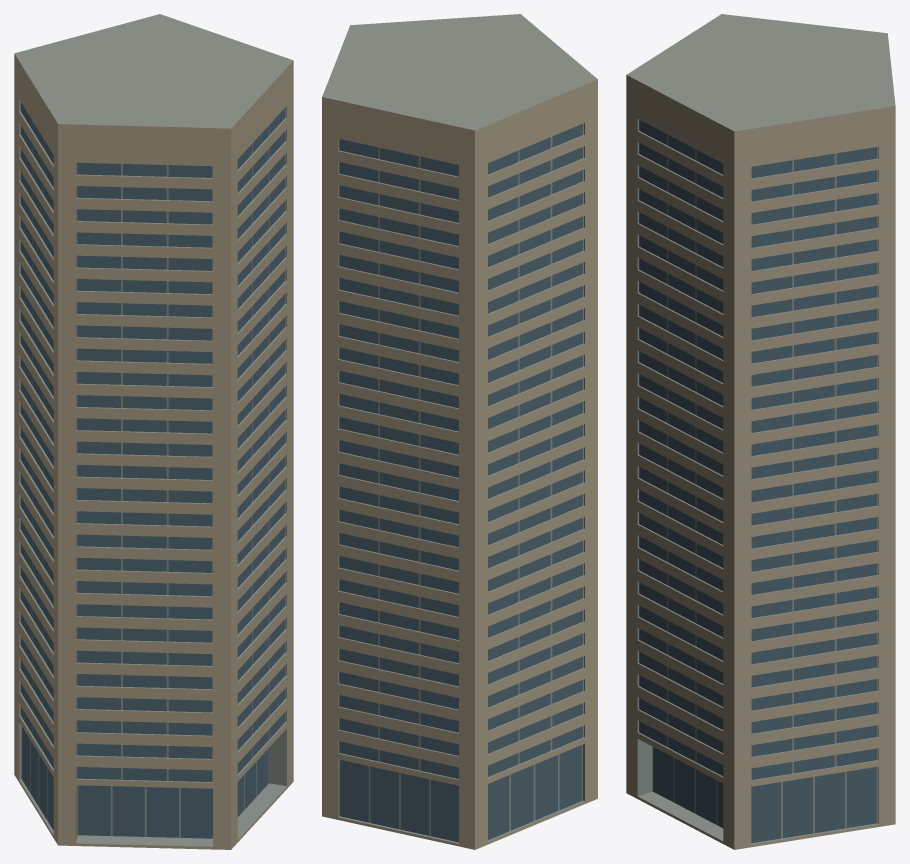
Rendered from baltimore-world-trade-center-far.glb.
3 renders of one model, left to right at view 1: azimuth 30°, elevation 25°; view 2: azimuth 150°, elevation 25°; view 3: azimuth 270°, elevation 25°, orthographic.
Parts seen in each view (by area): view 1: baltimore-world-trade-center-0-stone, baltimore-world-trade-center-0-glass, baltimore-world-trade-center-0-reveal, baltimore-world-trade-center-0-roof; view 2: baltimore-world-trade-center-0-stone, baltimore-world-trade-center-0-glass, baltimore-world-trade-center-0-roof, baltimore-world-trade-center-0-reveal; view 3: baltimore-world-trade-center-0-stone, baltimore-world-trade-center-0-glass, baltimore-world-trade-center-0-roof, baltimore-world-trade-center-0-reveal.
Part boxes in pixels (x1=…): baltimore-world-trade-center-0-stone: x1=14, y1=54, x2=293, y2=849; baltimore-world-trade-center-0-glass: x1=21, y1=102, x2=284, y2=838; baltimore-world-trade-center-0-reveal: x1=19, y1=99, x2=286, y2=846; baltimore-world-trade-center-0-roof: x1=14, y1=14, x2=293, y2=128; baltimore-world-trade-center-0-stone: x1=322, y1=79, x2=597, y2=849; baltimore-world-trade-center-0-glass: x1=339, y1=123, x2=582, y2=842; baltimore-world-trade-center-0-roof: x1=322, y1=14, x2=597, y2=130; baltimore-world-trade-center-0-reveal: x1=338, y1=123, x2=584, y2=843; baltimore-world-trade-center-0-stone: x1=626, y1=75, x2=895, y2=849; baltimore-world-trade-center-0-glass: x1=639, y1=120, x2=877, y2=843; baltimore-world-trade-center-0-roof: x1=626, y1=14, x2=895, y2=131; baltimore-world-trade-center-0-reveal: x1=637, y1=119, x2=878, y2=844.
Size of the model in its own units: 43.35 by 124 by 41.93.
